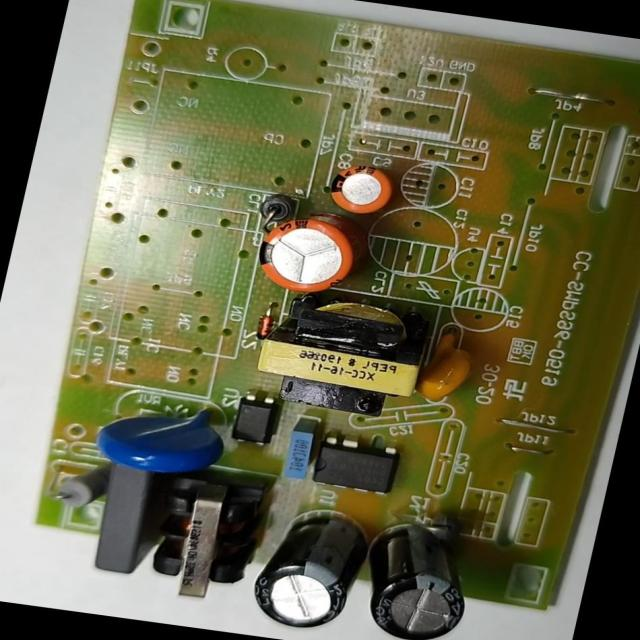Cap1: (242, 205, 370, 302)
Cap2: (317, 157, 403, 220)
Cap3: (244, 500, 383, 640)
Cap4: (348, 514, 486, 640)
MOSFET: (302, 434, 403, 501)
Mov: (90, 389, 232, 482)
Resistor: (43, 463, 113, 516)
Transformer: (244, 284, 439, 426), (138, 473, 274, 606)
